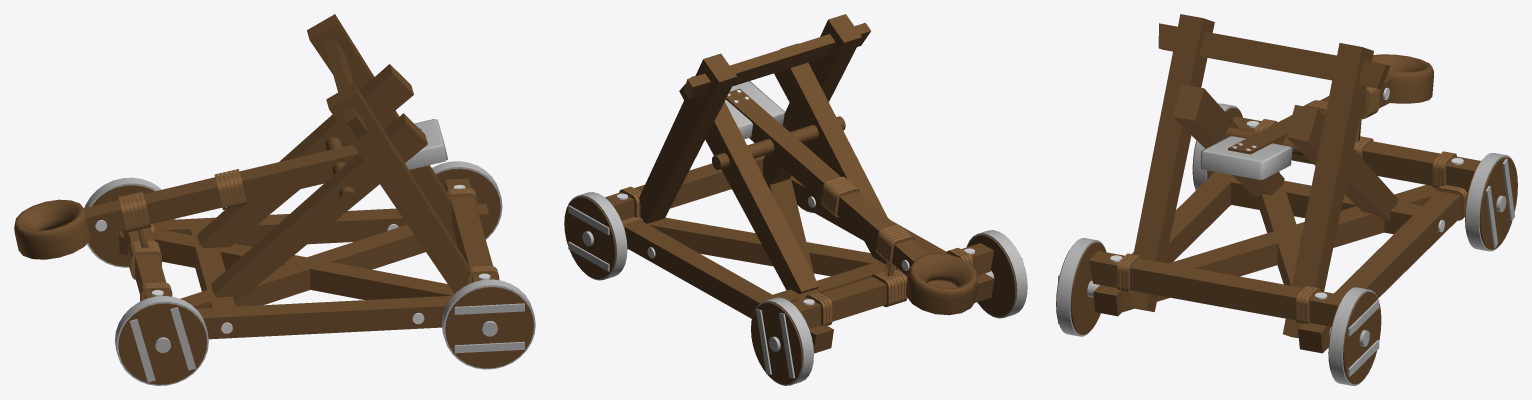
File: Catapult.glb
3 views of the same model, side by side, from view 1: azimuth 30°, elevation 25°; view 2: azimuth 150°, elevation 25°; view 3: azimuth 270°, elevation 25° (orthographic). The views are drawn at different scales.
Parts seen in each view (by area): view 1: Root; view 2: Root; view 3: Root.
Boxes of the visible parts, x1,y1,x2,y2 form: Root: (14,14,535,385); Root: (564,14,1027,385); Root: (1056,14,1517,385).
Size of the model in its own units: 2.81 by 1.53 by 2.33.
